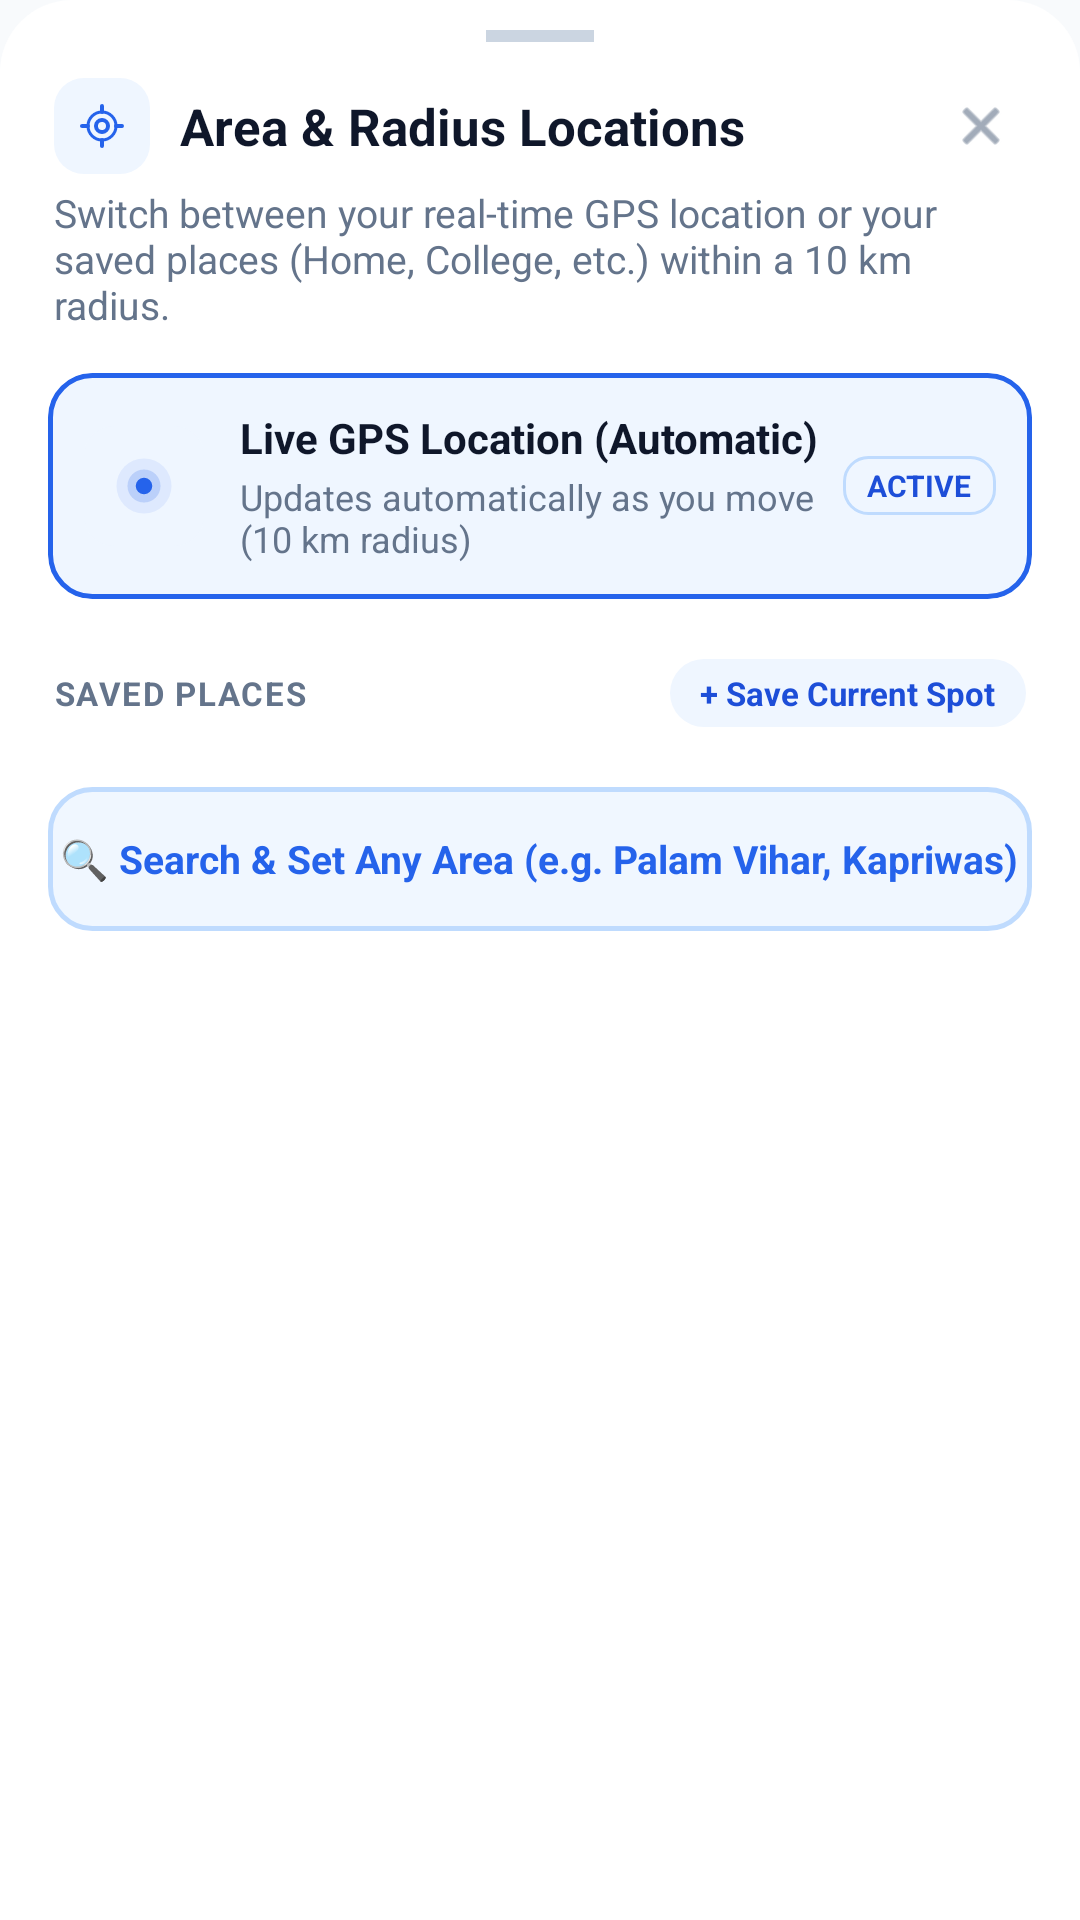

Locate icon controls on the screen. Image size 1080*1920, boxes as bbox=[x1, y1, x2, y2].
close clear cancel: bbox=[962, 107, 1000, 145]
gps target: bbox=[80, 104, 124, 148]
live gps radar: bbox=[127, 469, 161, 503]
